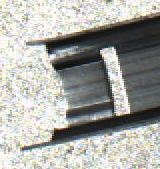press: (20, 18, 150, 158)
